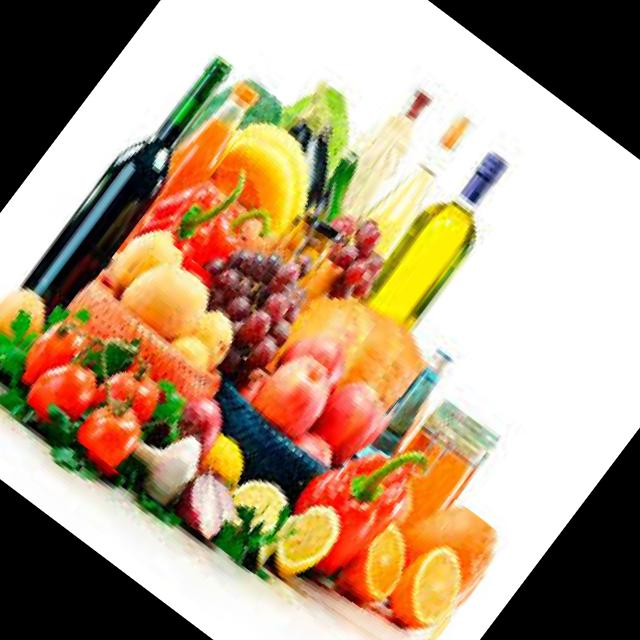Organic: (11, 186, 418, 582), (276, 441, 511, 640), (164, 87, 362, 303), (274, 200, 400, 329), (0, 284, 57, 380)
